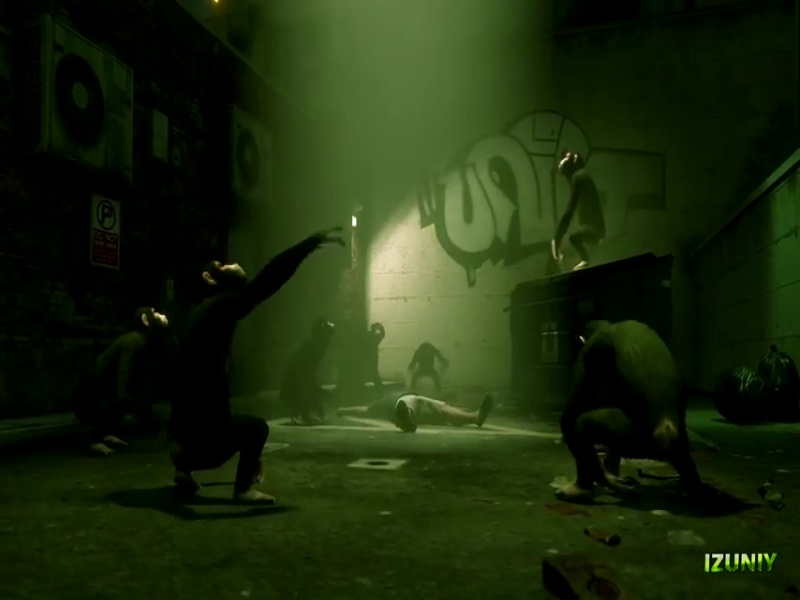licenseplate: (334, 98, 506, 228)
